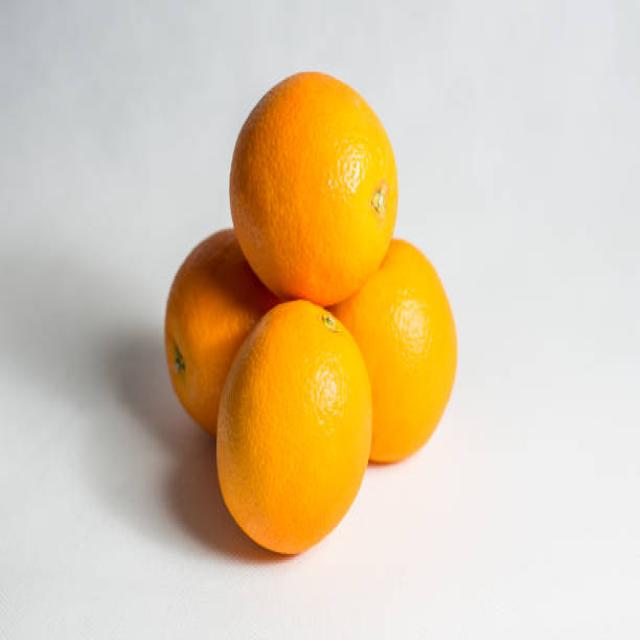Good_Orange: (213, 300, 376, 558), (229, 72, 398, 311), (334, 240, 459, 467)
